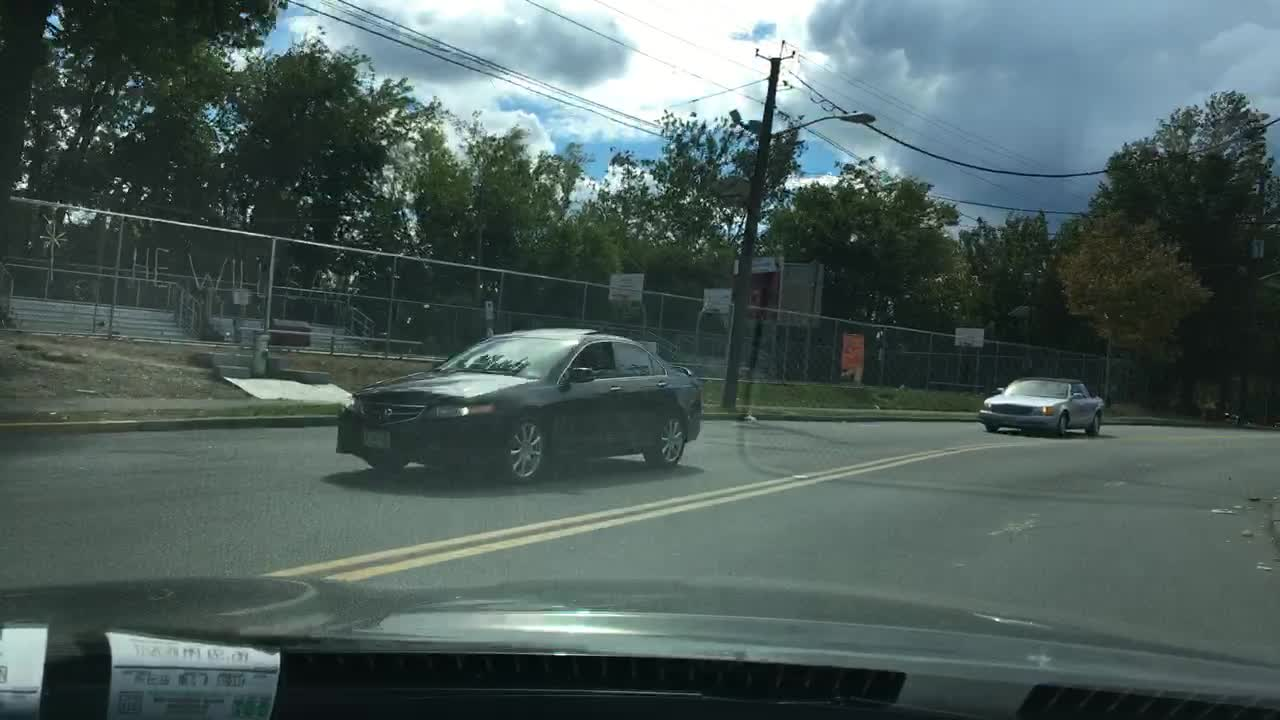car: (334, 323, 703, 485), (976, 373, 1105, 437)
traffic sign: (744, 260, 825, 330), (608, 269, 644, 303), (732, 254, 780, 276), (841, 332, 867, 368), (701, 286, 732, 313), (955, 326, 986, 348), (484, 299, 499, 322), (233, 289, 247, 303)
